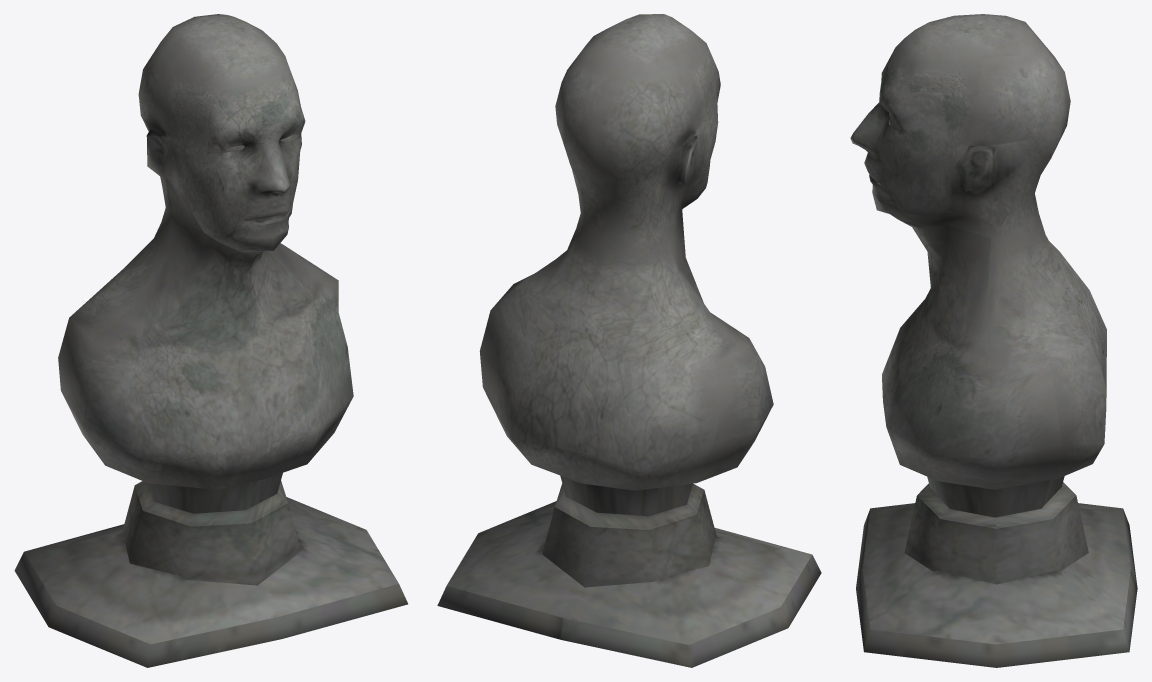
Rendered from bust.dae.
The picture shows the model from 3 angles, left to right: view 1: azimuth 30°, elevation 25°; view 2: azimuth 150°, elevation 25°; view 3: azimuth 270°, elevation 25°; orthographic projection. The views are drawn at different scales.
Parts seen in each view (by area): view 1: polySurface1; view 2: polySurface1; view 3: polySurface1.
Boxes of the visible parts, x1,y1,x2,y2 form: polySurface1: [14, 14, 407, 667]; polySurface1: [437, 14, 821, 667]; polySurface1: [850, 14, 1137, 667].
Size of the model in its own units: 0.3095 by 0.5173 by 0.2367.
